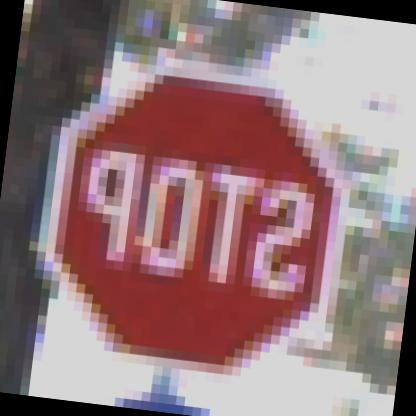stop: (15, 42, 387, 405)
